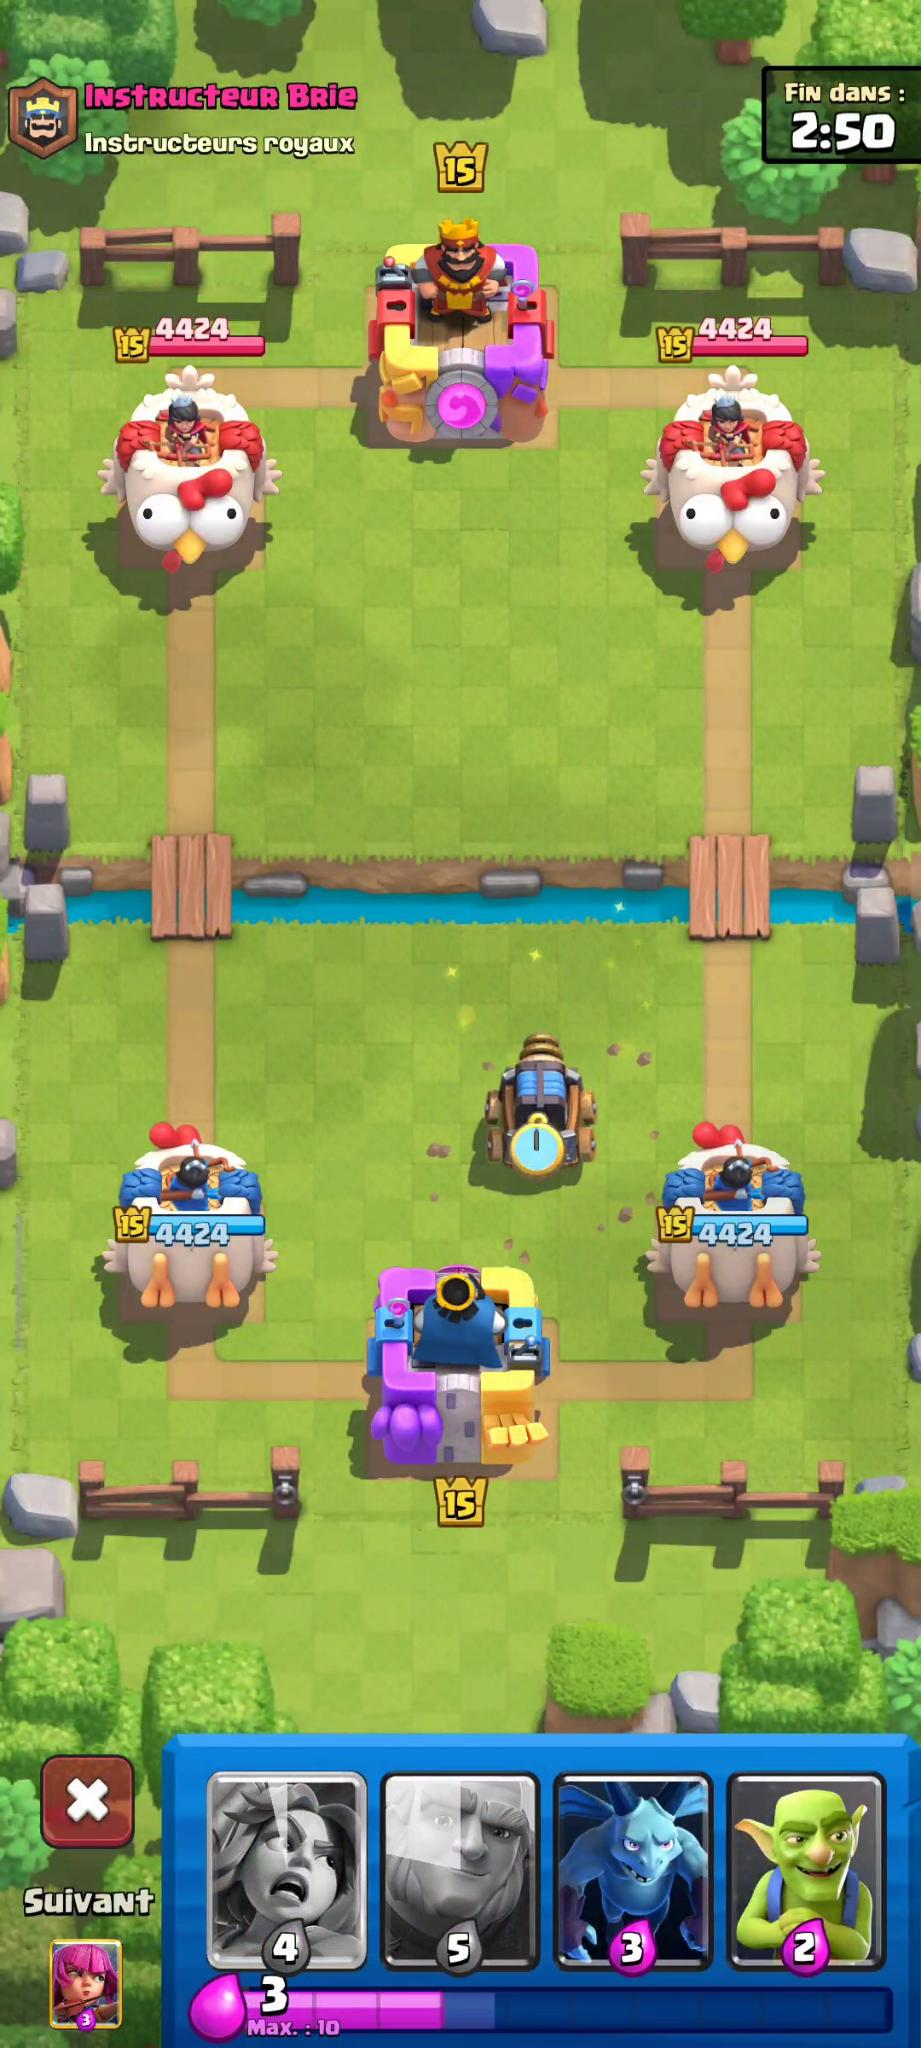zappy: (486, 1033, 596, 1178)
